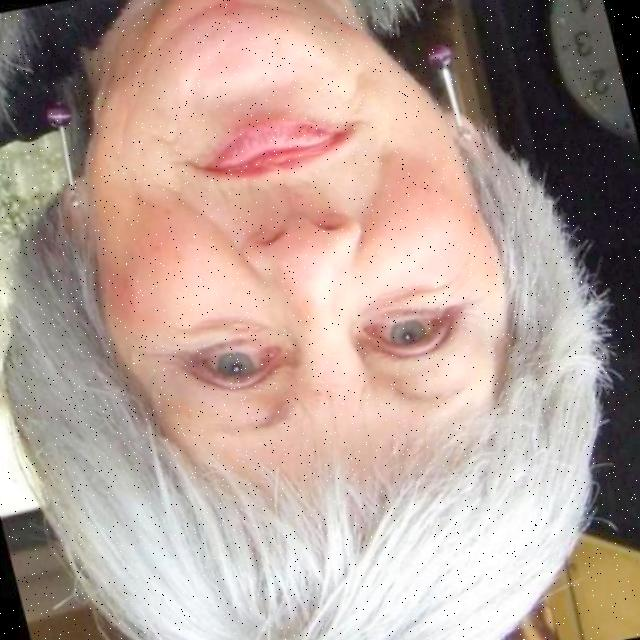puffy_eyes: (364, 278, 452, 316), (173, 314, 257, 353)
